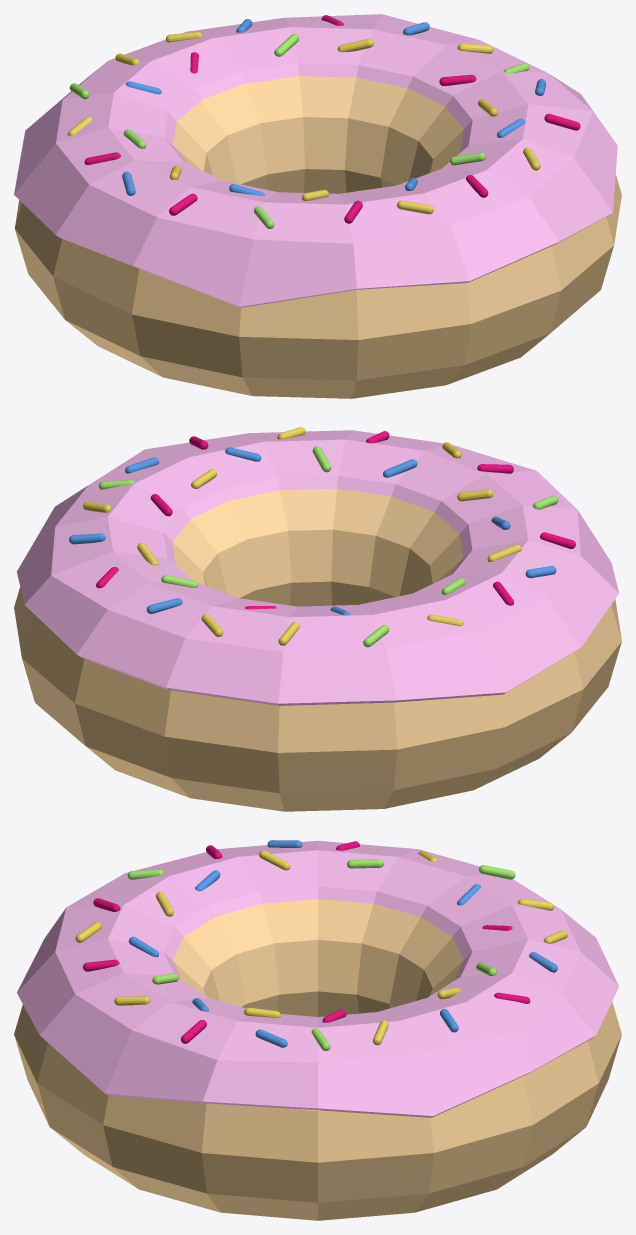
The model's file is Donut02_GameJam.fbx.
3 renders of one model, top to bottom at view 1: azimuth 30°, elevation 25°; view 2: azimuth 150°, elevation 25°; view 3: azimuth 270°, elevation 25°, orthographic.
Parts seen in each view (by area): view 1: Torus.001; view 2: Torus.001; view 3: Torus.001.
Boxes of the visible parts, <box> form: Torus.001: <box>14,14,621,398</box>; Torus.001: <box>14,427,621,811</box>; Torus.001: <box>14,840,621,1220</box>.
Bounding box in the file's own units: 300 × 105 × 300.
